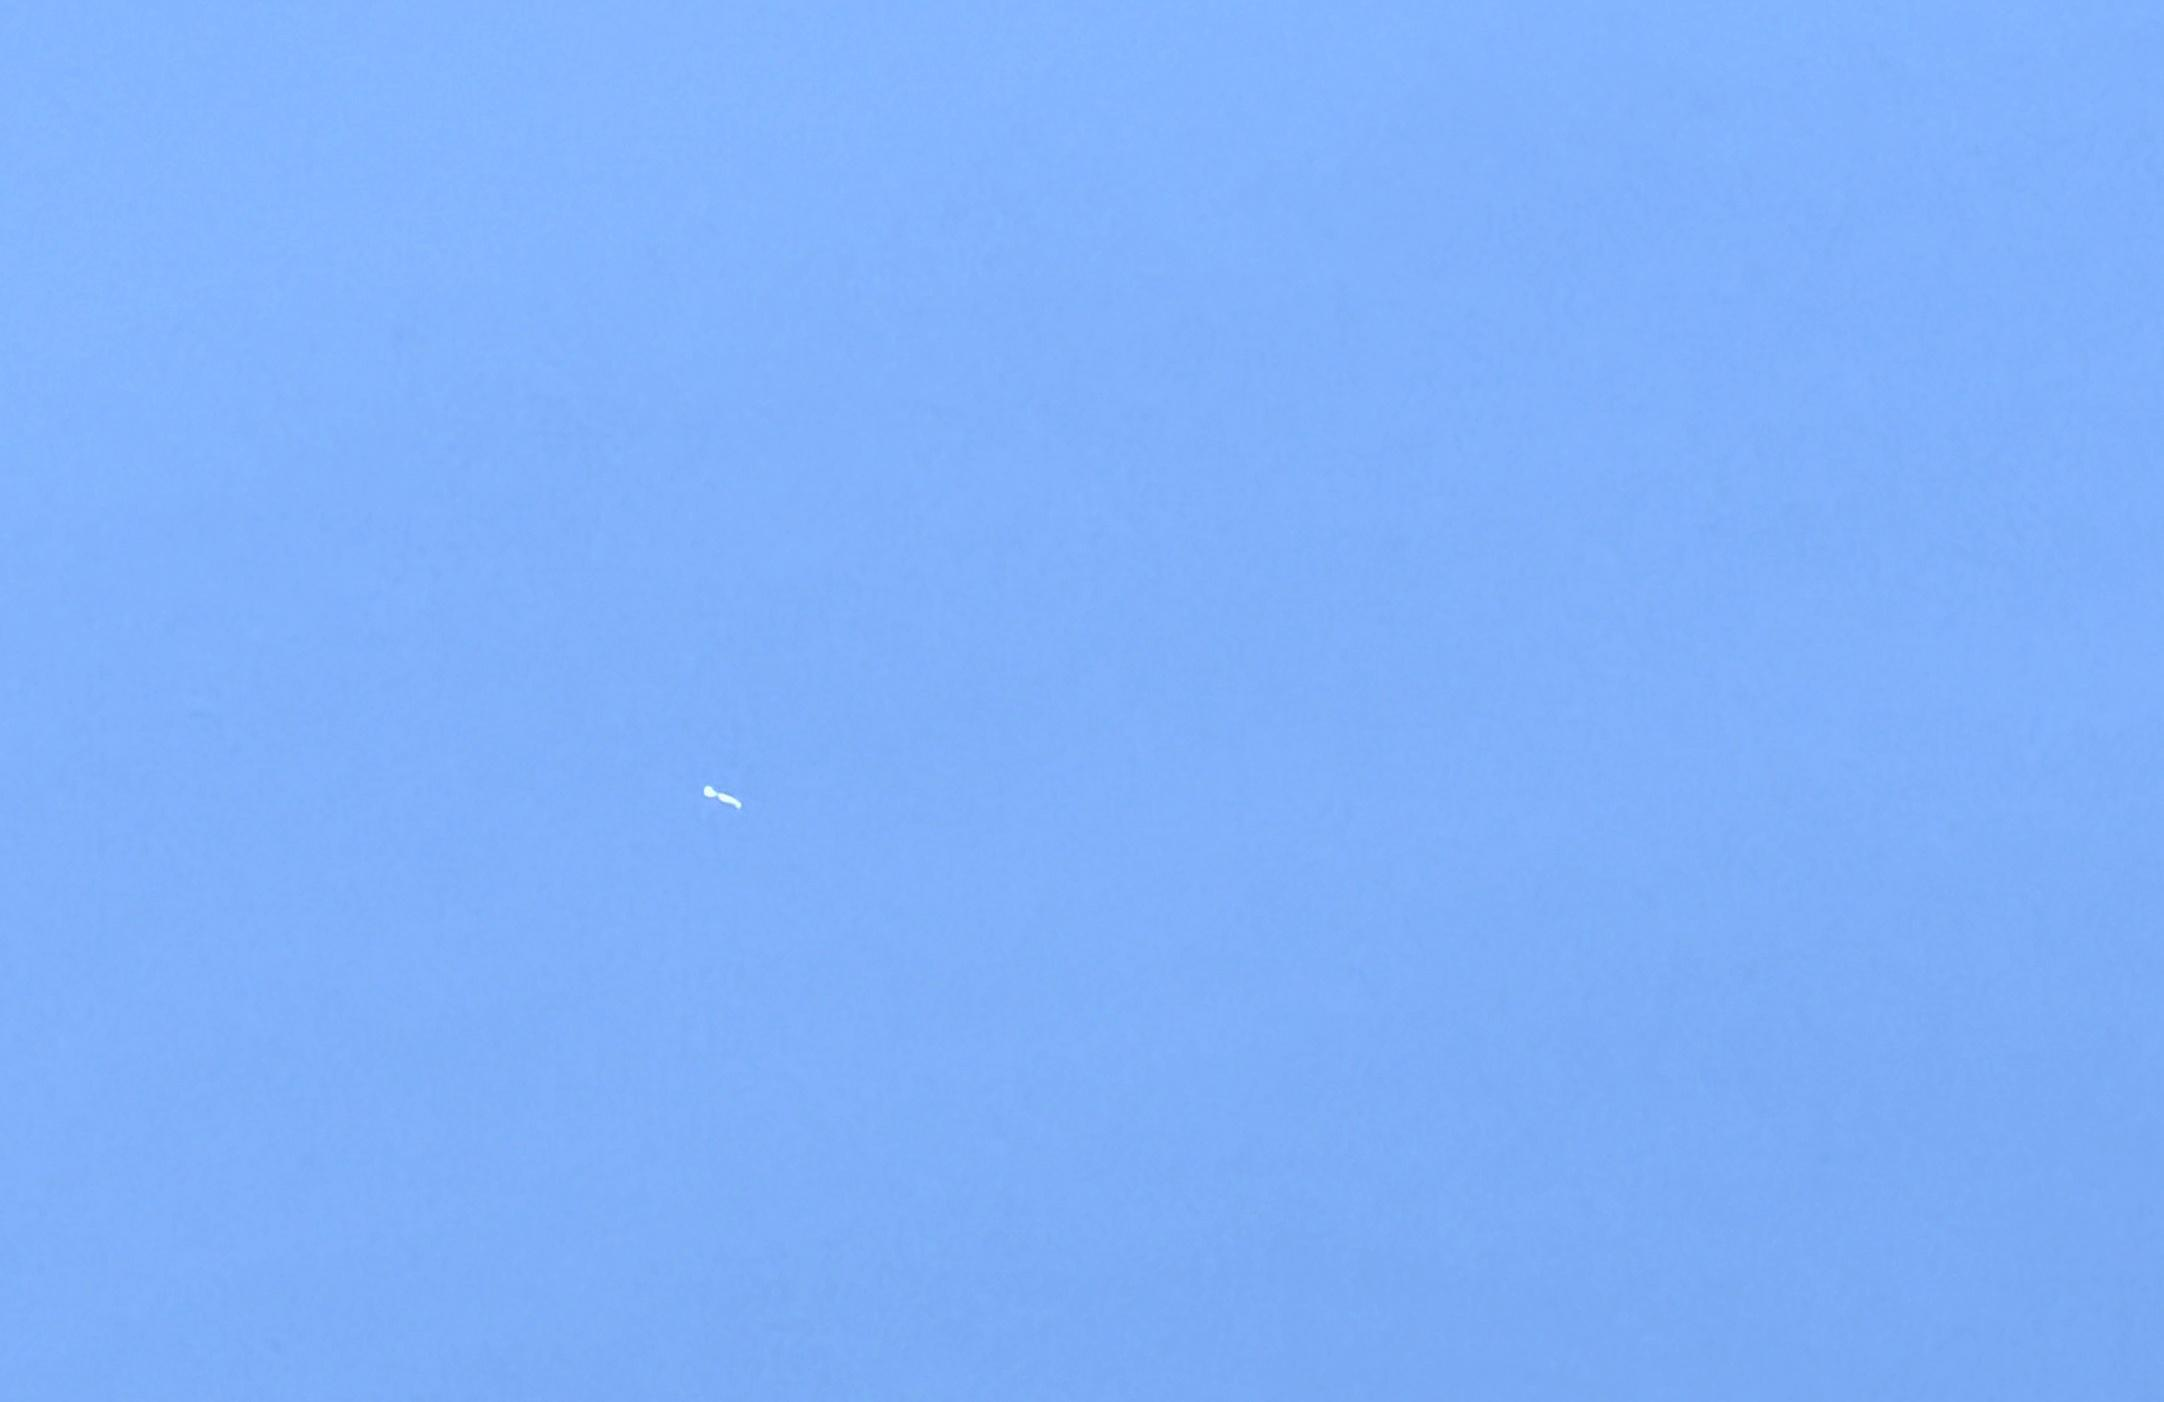Plane: (689, 744, 770, 847)
